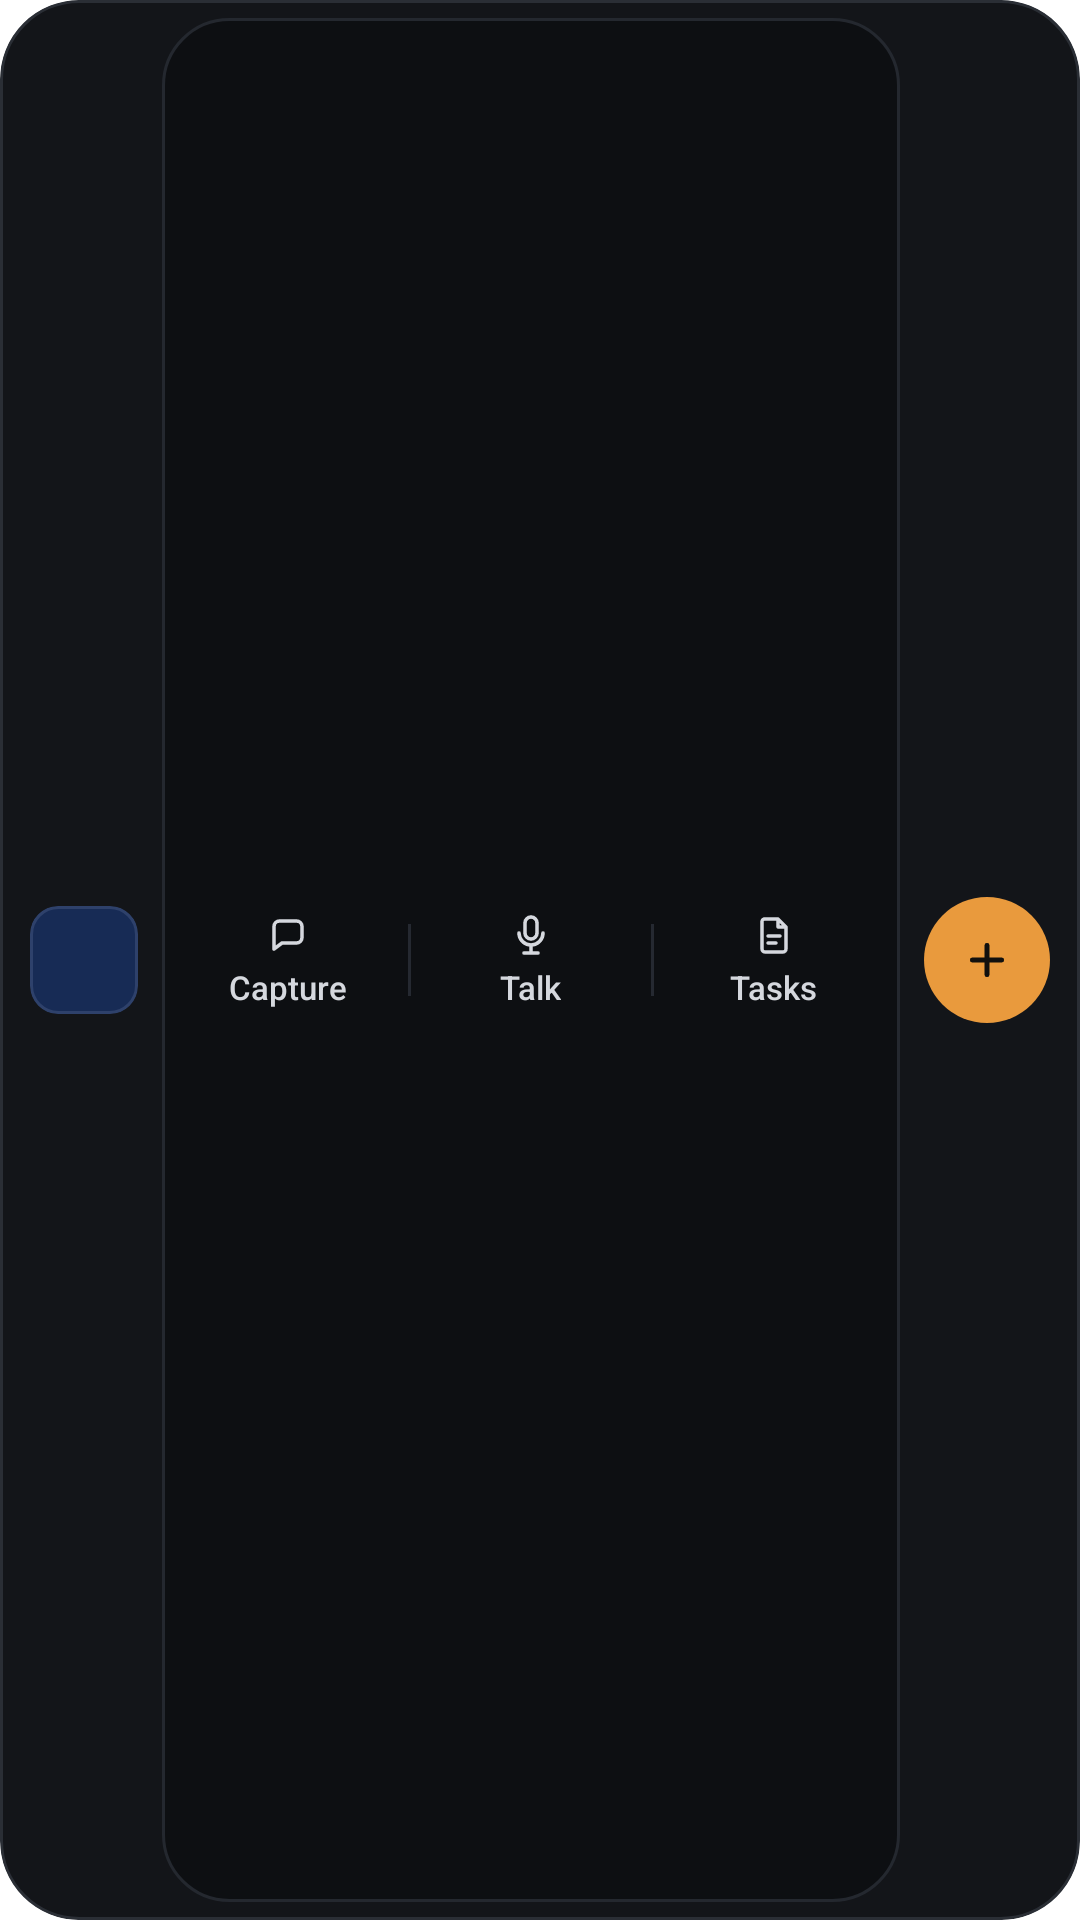

Where icons sit on this 1080x1920 app screen, as region(x1, y1, x2, y2):
widget chat: region(272, 919, 304, 951)
widget doc: region(760, 917, 788, 954)
widget mic: region(517, 915, 545, 955)
widget plus: region(970, 943, 1004, 977)
